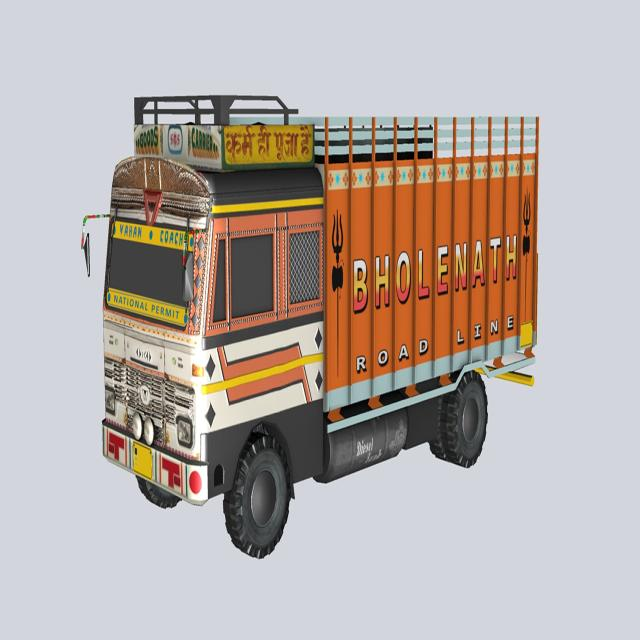truck: (74, 96, 539, 558)
